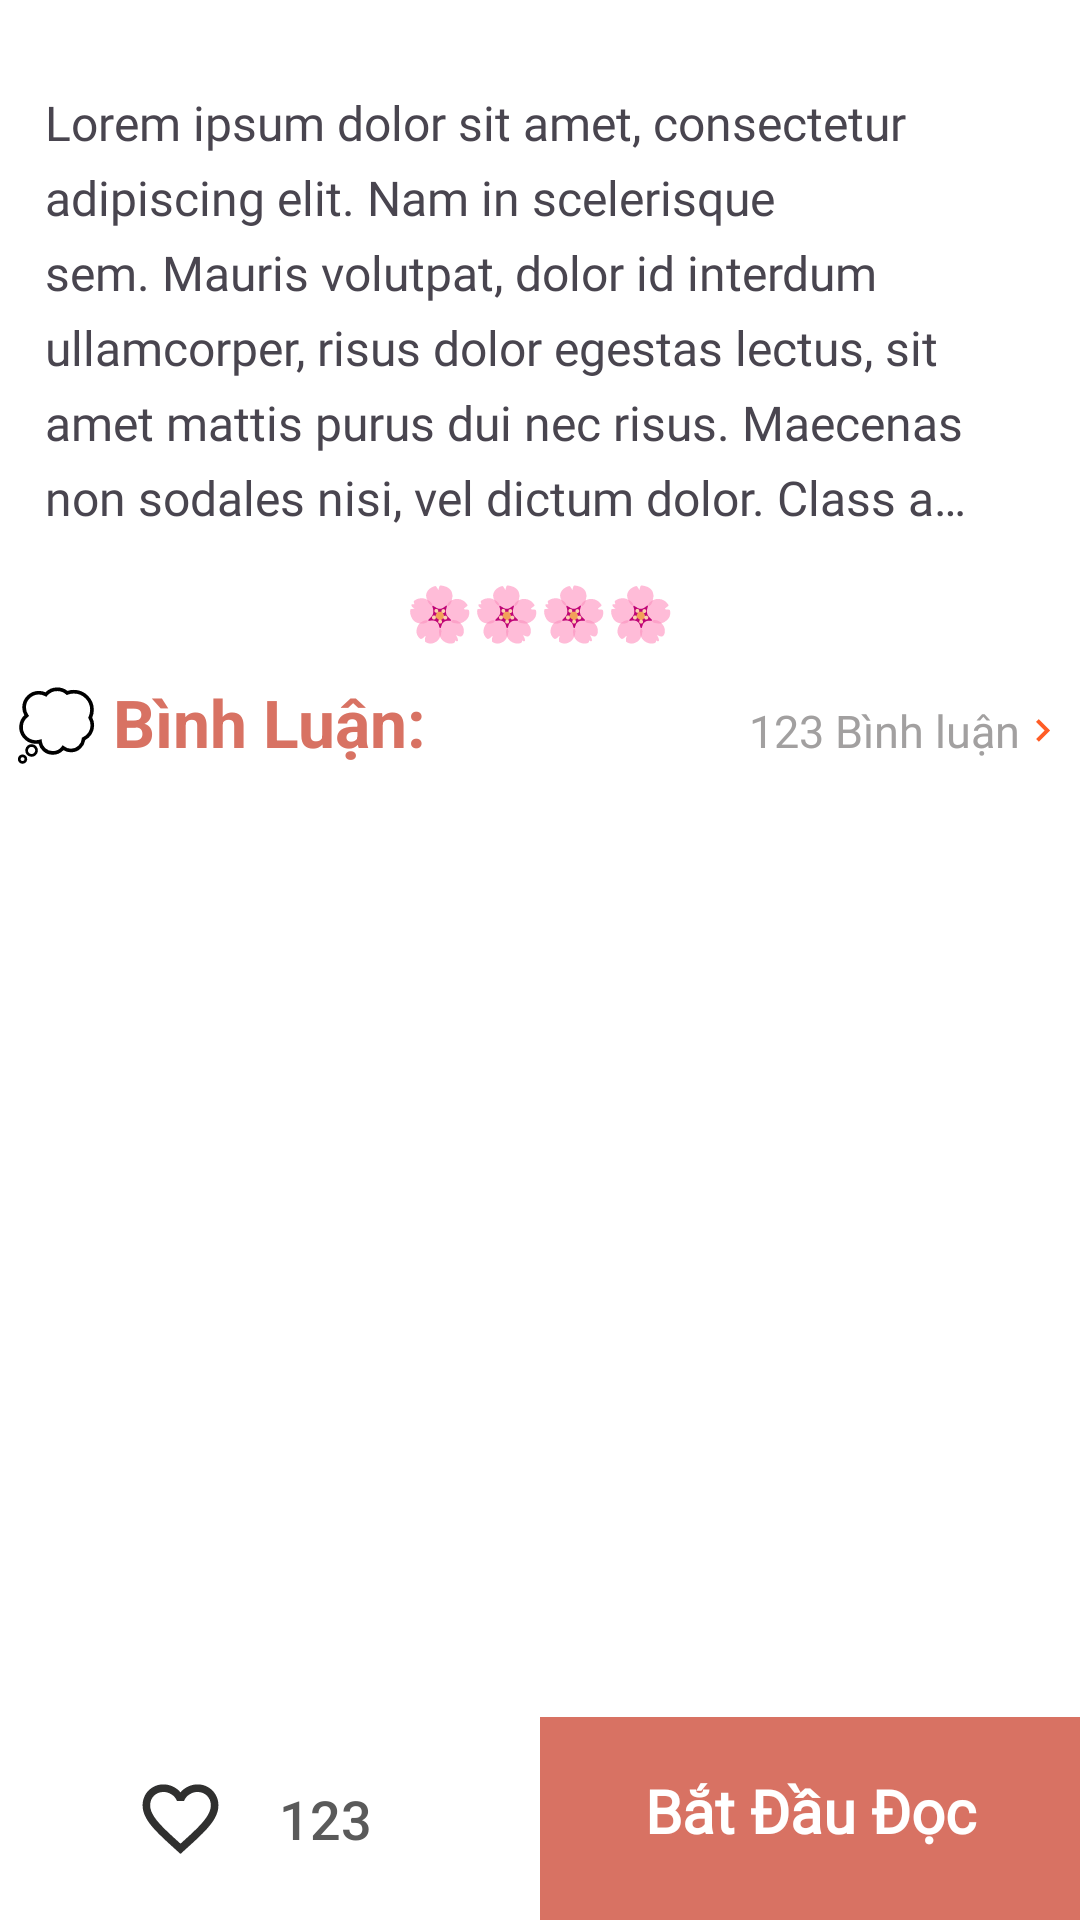

Named icons in this screenshot (1080px×1920px) and their centers, (x=x, y=y):
favorite border: (x=180, y=1819)
